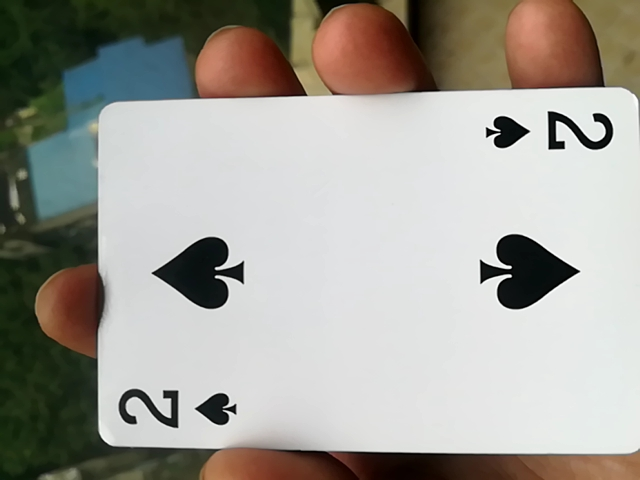ht 2: (83, 88, 638, 472)
